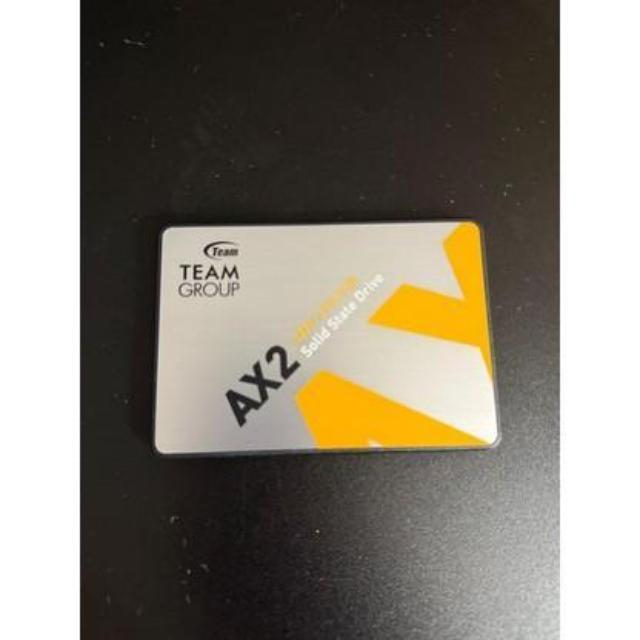DISK: (148, 216, 508, 461)
